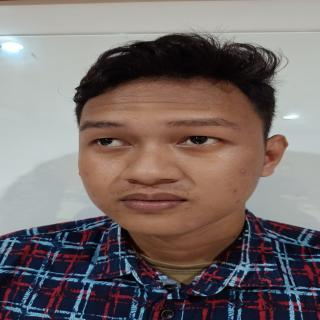Takut: (73, 77, 269, 244)
